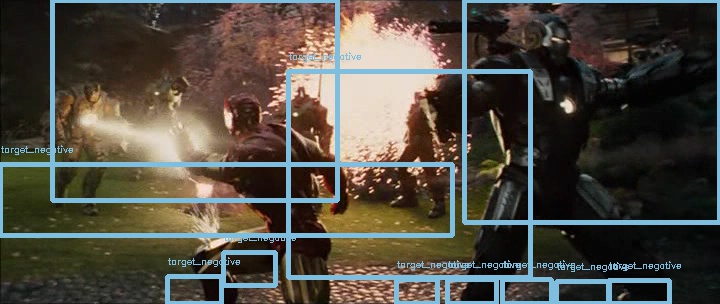person: (221, 91, 255, 140), (220, 91, 254, 140), (222, 91, 256, 140), (221, 90, 255, 139), (221, 92, 255, 141)
target_negative: (191, 185, 700, 235), (400, 170, 578, 273), (495, 227, 656, 303), (87, 204, 530, 220), (502, 165, 709, 186), (71, 299, 676, 303)
